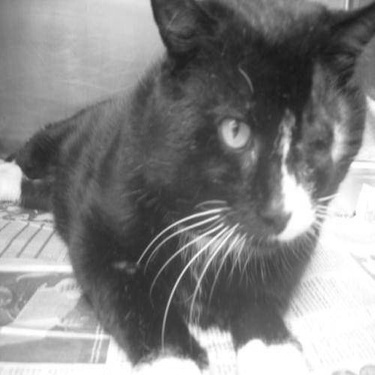cat: (4, 1, 369, 368)
